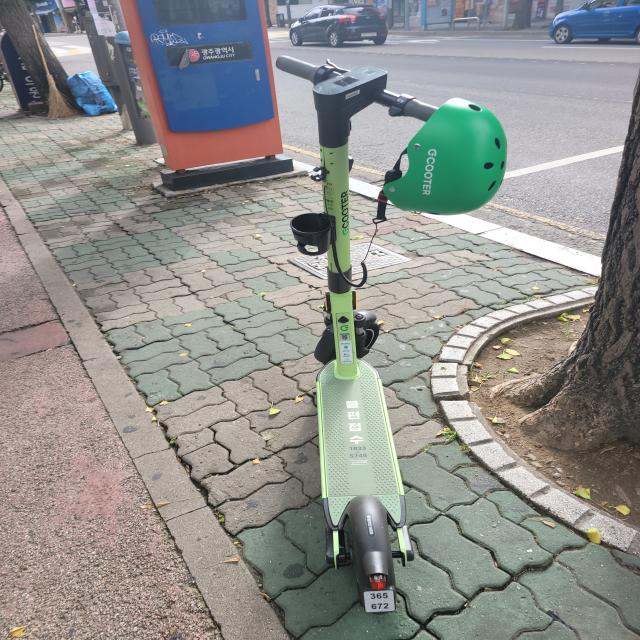bike: (271, 52, 507, 614)
car: (289, 4, 389, 48), (548, 0, 640, 46)
